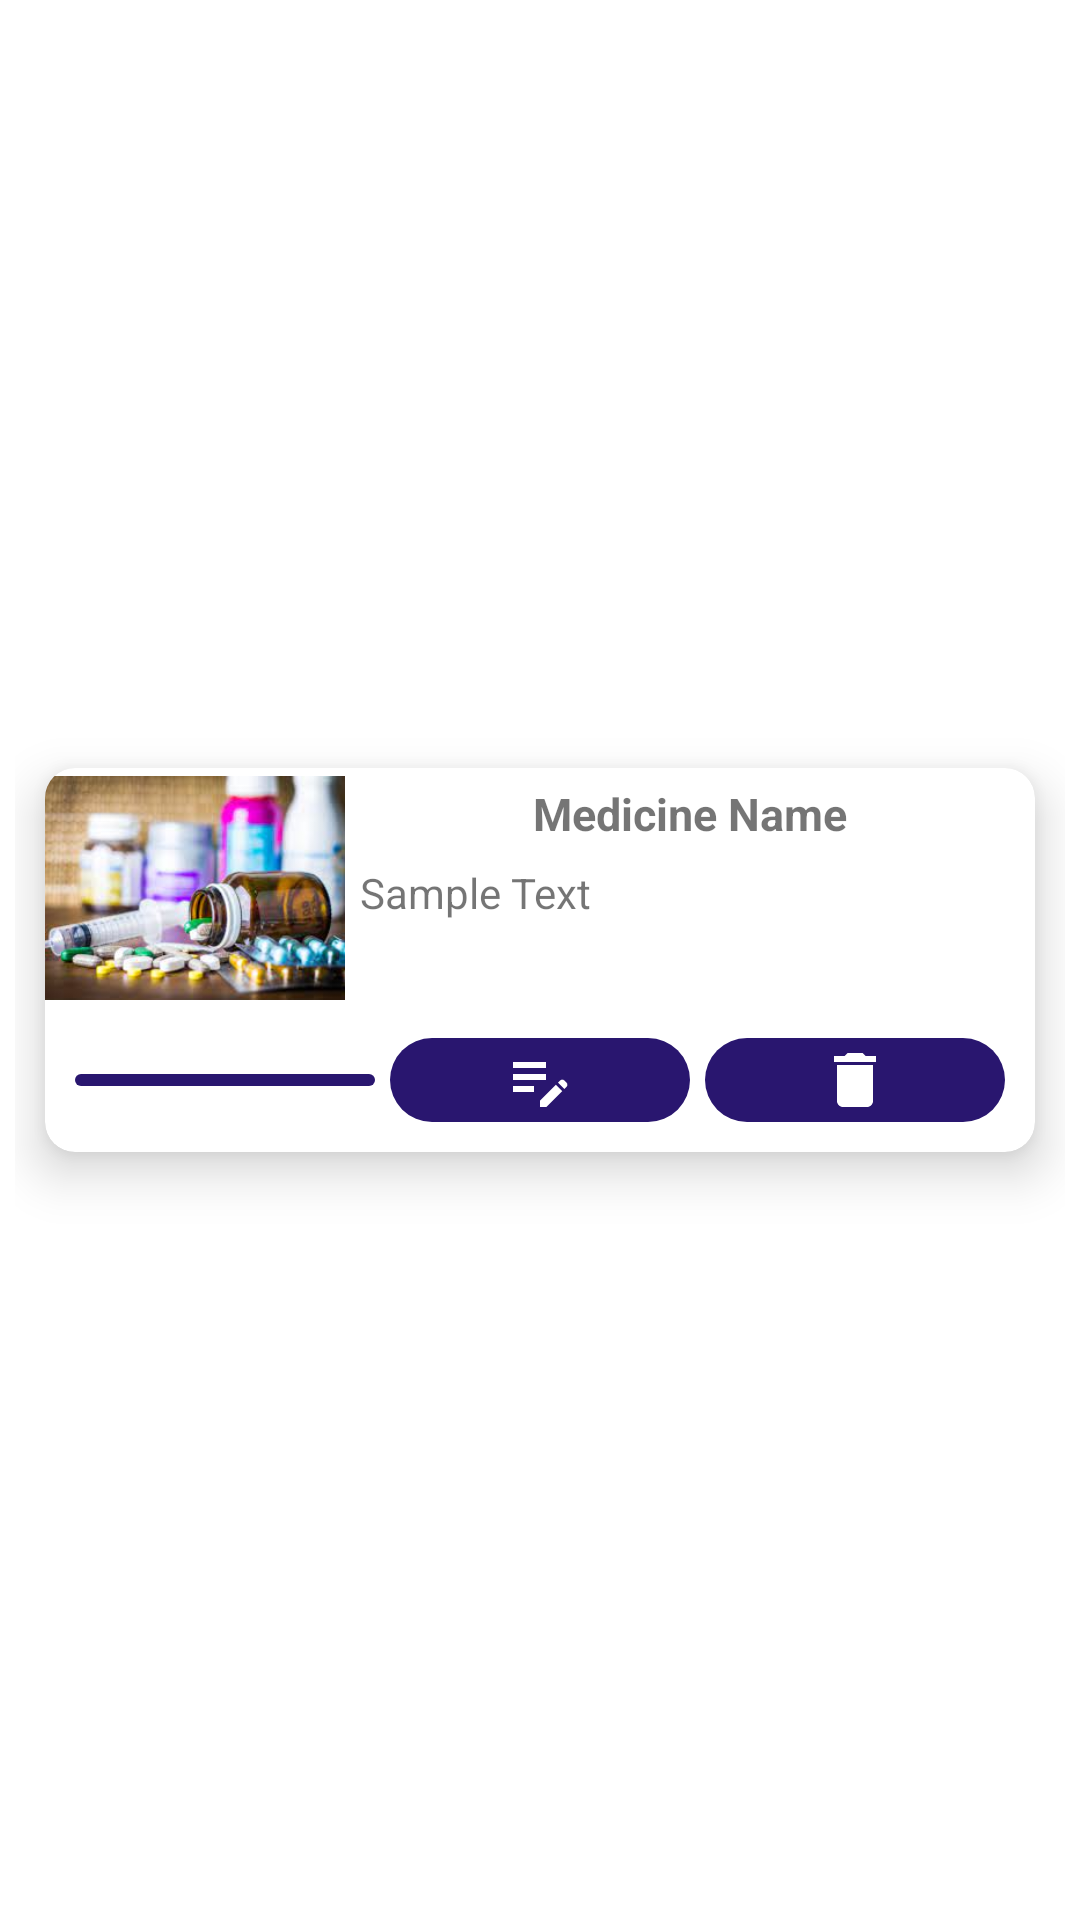

Icon click points for this 1080×1920 phone screenshot, format point (x, y):
delete: point (855, 1080)
edit: point (540, 1080)
medicine: point (195, 888)
